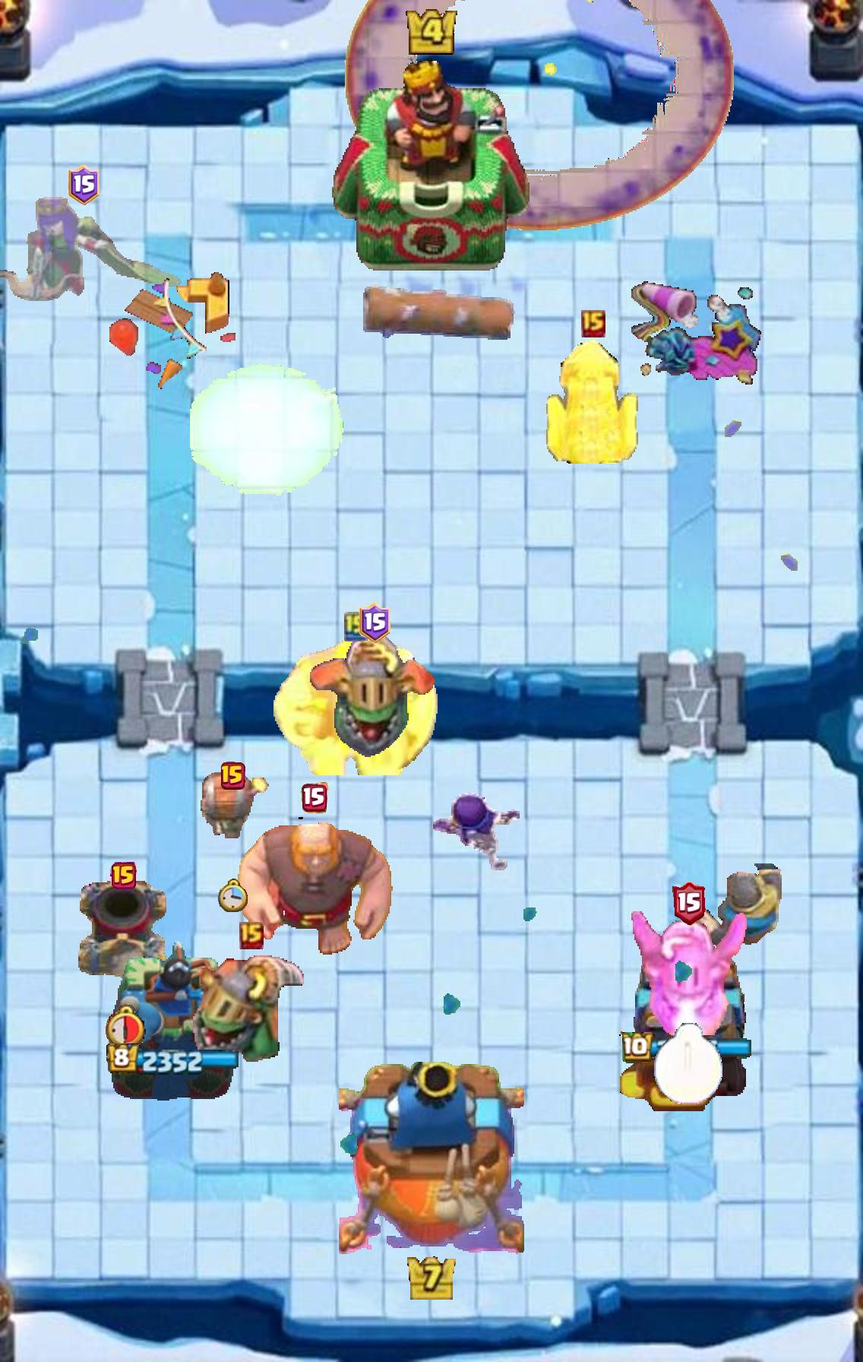bar-level: (672, 882, 705, 926), (68, 165, 100, 206), (359, 603, 390, 643), (301, 782, 328, 814), (110, 862, 136, 890), (239, 922, 264, 949), (221, 761, 245, 789), (581, 310, 605, 337)
